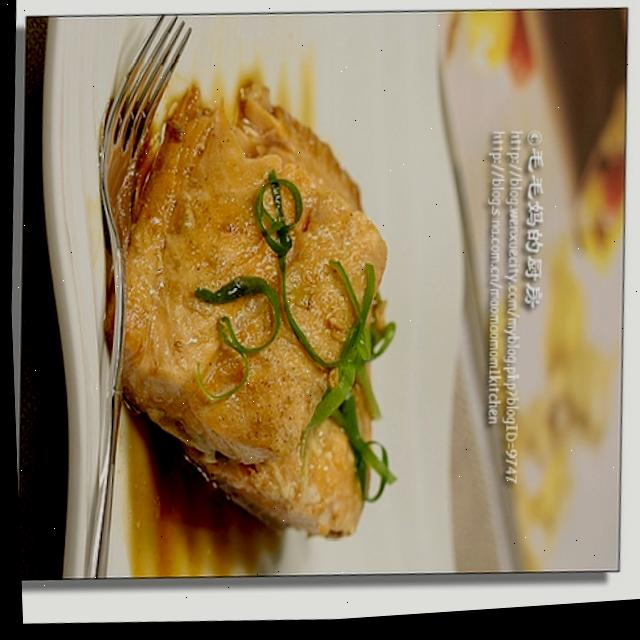熟制海鲜: (0, 0, 617, 616)
